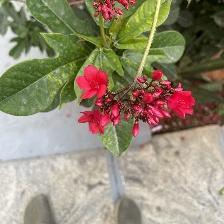jatropha: (75, 62, 109, 106)
